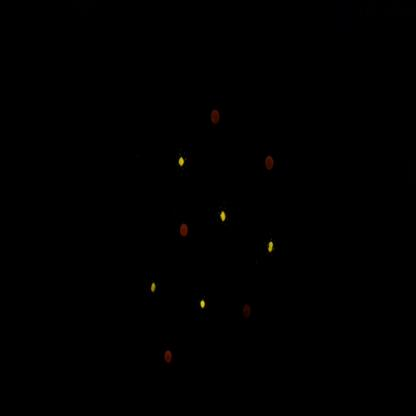PE: (194, 291, 212, 323), (146, 272, 164, 301), (266, 230, 280, 265), (216, 203, 231, 231), (176, 152, 188, 179)
PS: (208, 102, 224, 134), (263, 148, 277, 180), (176, 218, 192, 246), (241, 296, 255, 324), (161, 345, 175, 373)
